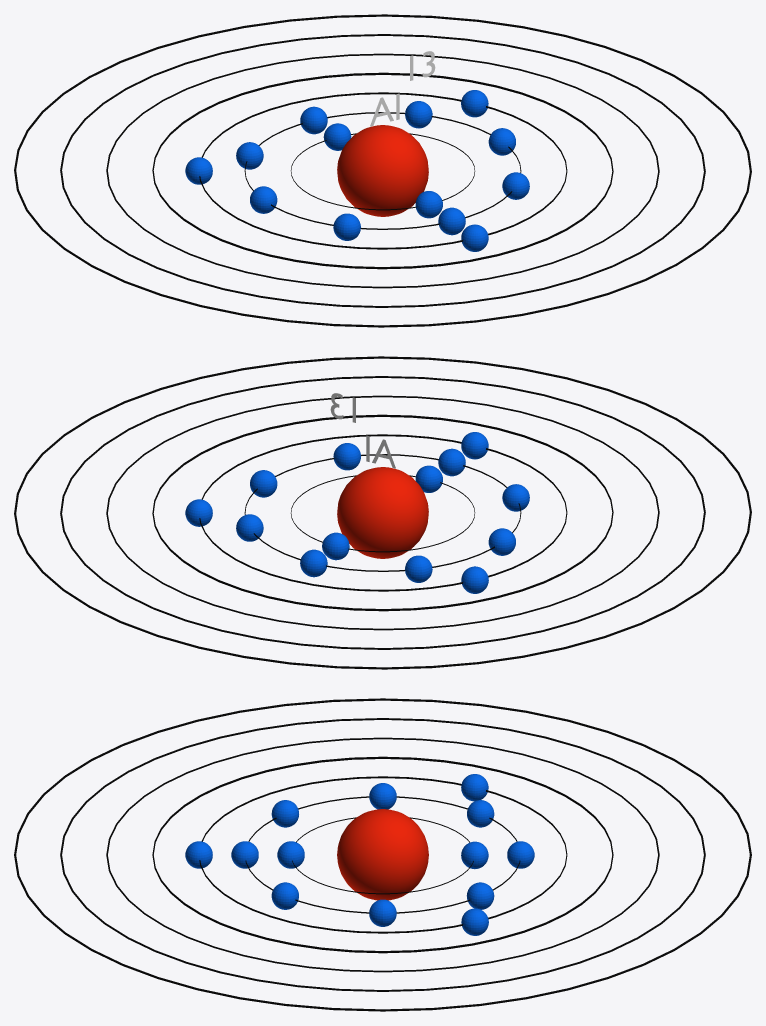
The picture shows the model from 3 angles, top to bottom: view 1: azimuth 30°, elevation 25°; view 2: azimuth 150°, elevation 25°; view 3: azimuth 270°, elevation 25°; orthographic projection.
Visible parts, largest first — view 1: Proton, Al2, n7, n6, n5, n4, Al3, n3, Al1, n2; view 2: Proton, Al2, n7, n6, n5, n4, Al3, n3, Al1, n2; view 3: Proton, Al2, n7, n6, n5, n4, Al3, n3, Al1, n2, n1.
Boxes of the visible parts, x1=… form: Proton: x1=337, y1=125, x2=428, y2=216; Al2: x1=236, y1=101, x2=529, y2=240; n7: x1=14, y1=14, x2=751, y2=327; n6: x1=60, y1=34, x2=705, y2=307; n5: x1=106, y1=53, x2=659, y2=288; n4: x1=152, y1=72, x2=613, y2=269; Al3: x1=185, y1=90, x2=488, y2=251; n3: x1=199, y1=92, x2=567, y2=249; Al1: x1=323, y1=123, x2=442, y2=218; n2: x1=244, y1=112, x2=521, y2=229; Proton: x1=337, y1=467, x2=428, y2=558; Al2: x1=236, y1=443, x2=529, y2=582; n7: x1=14, y1=356, x2=751, y2=669; n6: x1=60, y1=376, x2=705, y2=649; n5: x1=106, y1=395, x2=659, y2=630; n4: x1=152, y1=414, x2=613, y2=611; Al3: x1=185, y1=432, x2=488, y2=593; n3: x1=199, y1=434, x2=567, y2=591; Al1: x1=322, y1=465, x2=442, y2=560; n2: x1=244, y1=454, x2=521, y2=571; Proton: x1=337, y1=809, x2=428, y2=900; Al2: x1=231, y1=783, x2=534, y2=926; n7: x1=14, y1=698, x2=751, y2=1011; n6: x1=60, y1=718, x2=705, y2=991; n5: x1=106, y1=737, x2=659, y2=972; n4: x1=152, y1=756, x2=613, y2=953; Al3: x1=185, y1=774, x2=488, y2=935; n3: x1=199, y1=776, x2=567, y2=933; Al1: x1=277, y1=841, x2=488, y2=869; n2: x1=245, y1=796, x2=520, y2=913; n1: x1=292, y1=817, x2=473, y2=894.
Size of the model in its own units: 802 by 180 by 802.
